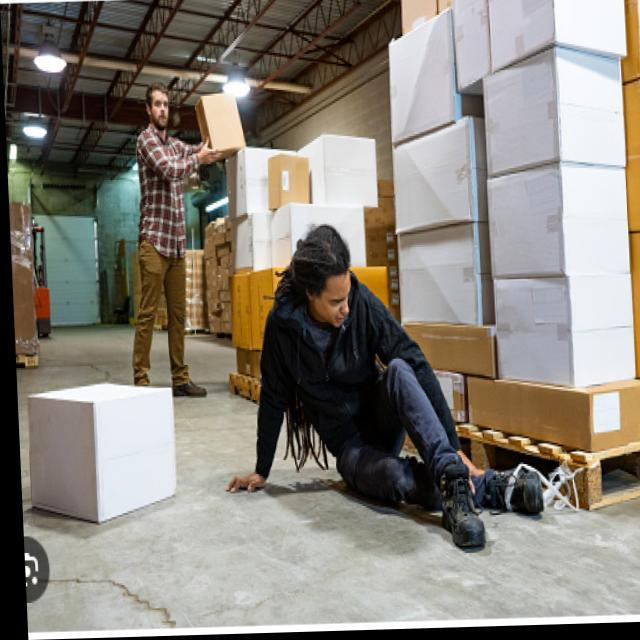shoes: (434, 456, 547, 555)
